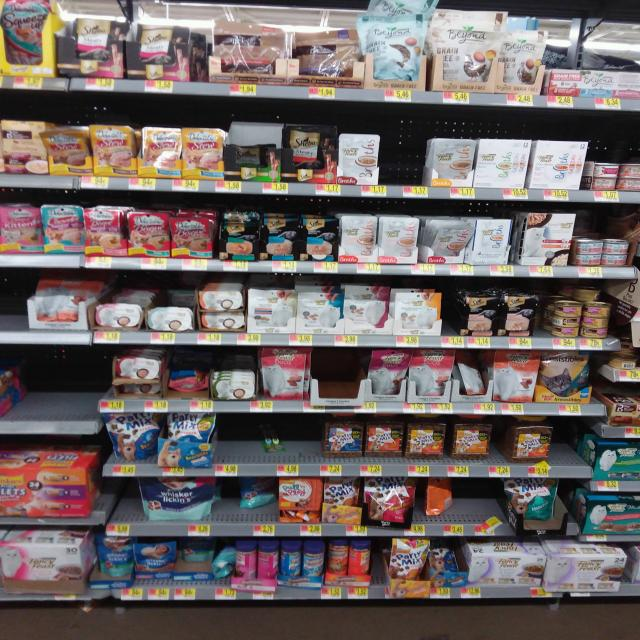100- O.O.S: (22, 350, 96, 434), (384, 119, 423, 198), (452, 479, 498, 536), (220, 414, 258, 476), (285, 414, 322, 477), (3, 272, 27, 343), (108, 478, 136, 536), (554, 417, 576, 478), (220, 480, 238, 536), (444, 292, 459, 348)
